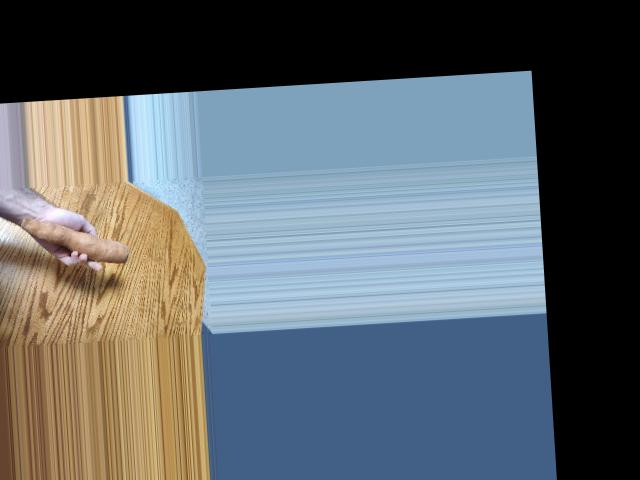sweet_potato: (20, 210, 125, 262)
